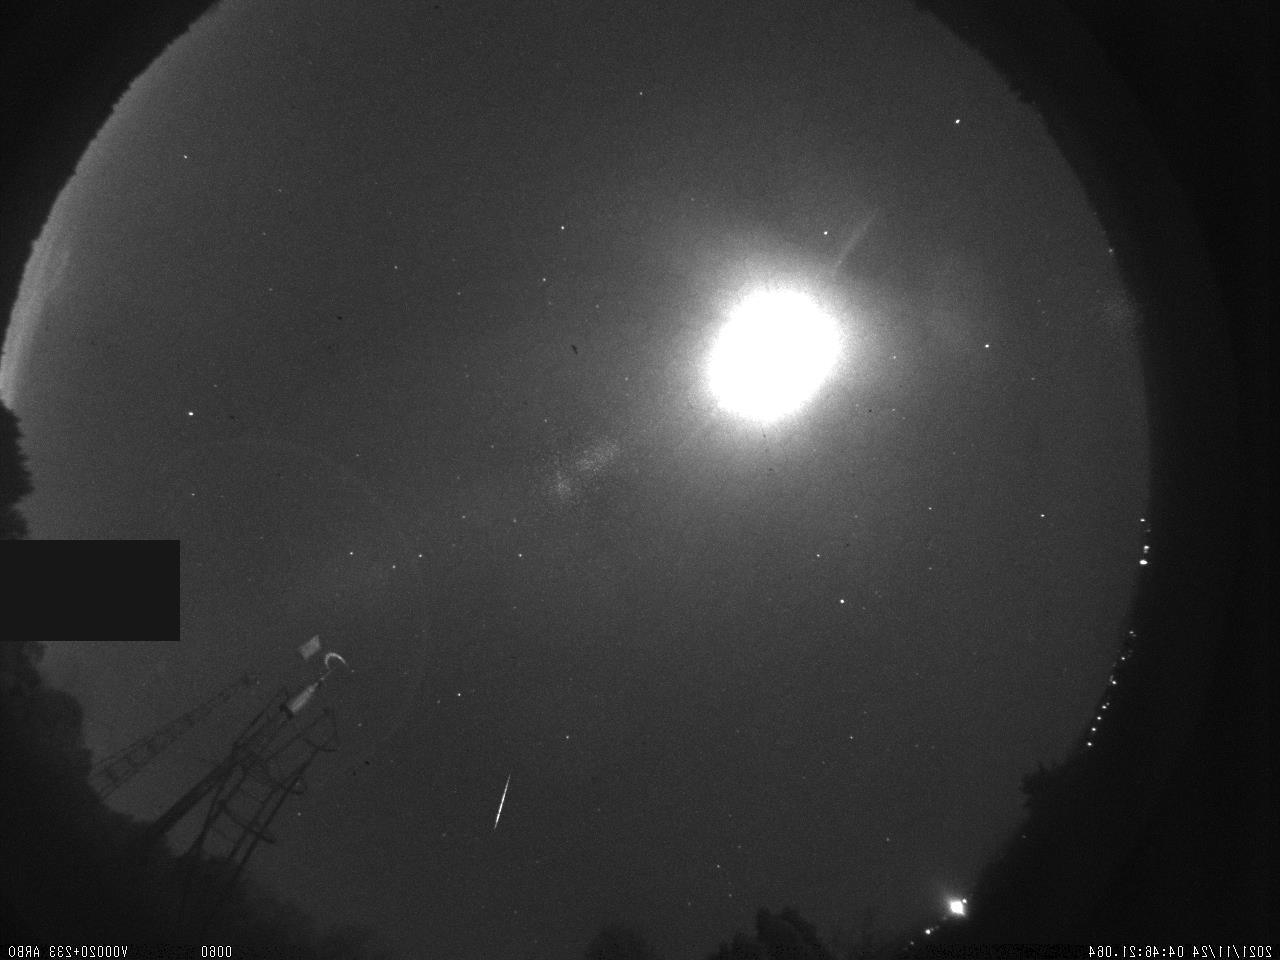meteor: (490, 764, 514, 832)
